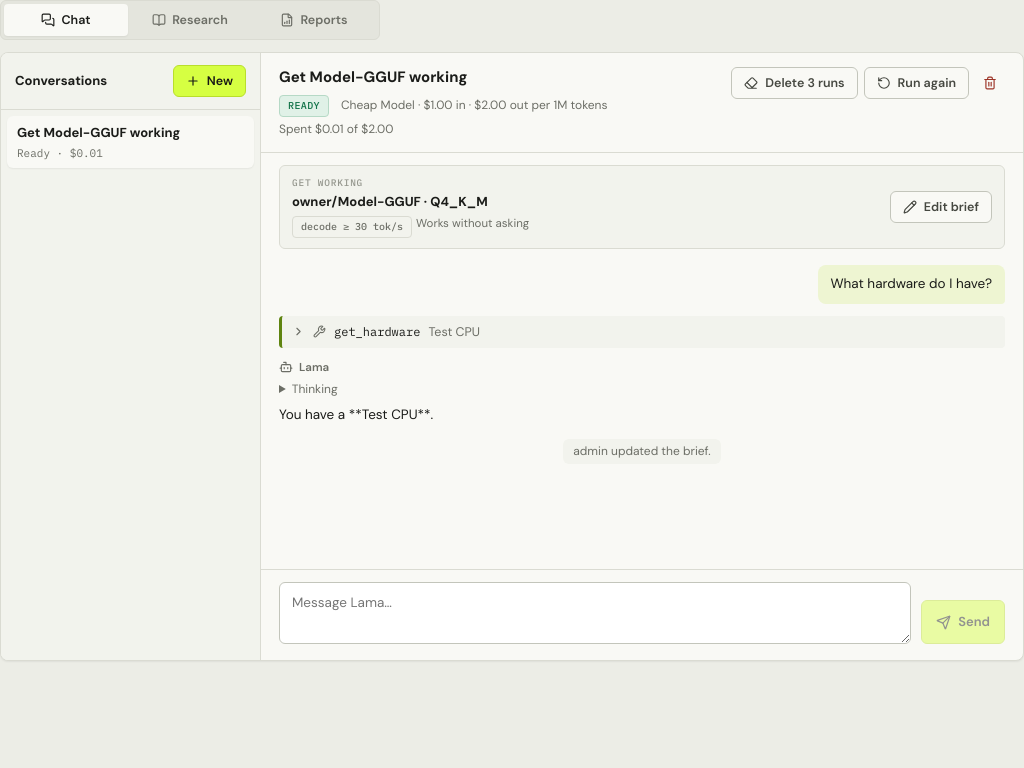
Test case: AssistantPanel › deletes the benchmark runs a conversation started
Click the button "Delete 3 runs" at point(794, 83), box [731,67,858,99]
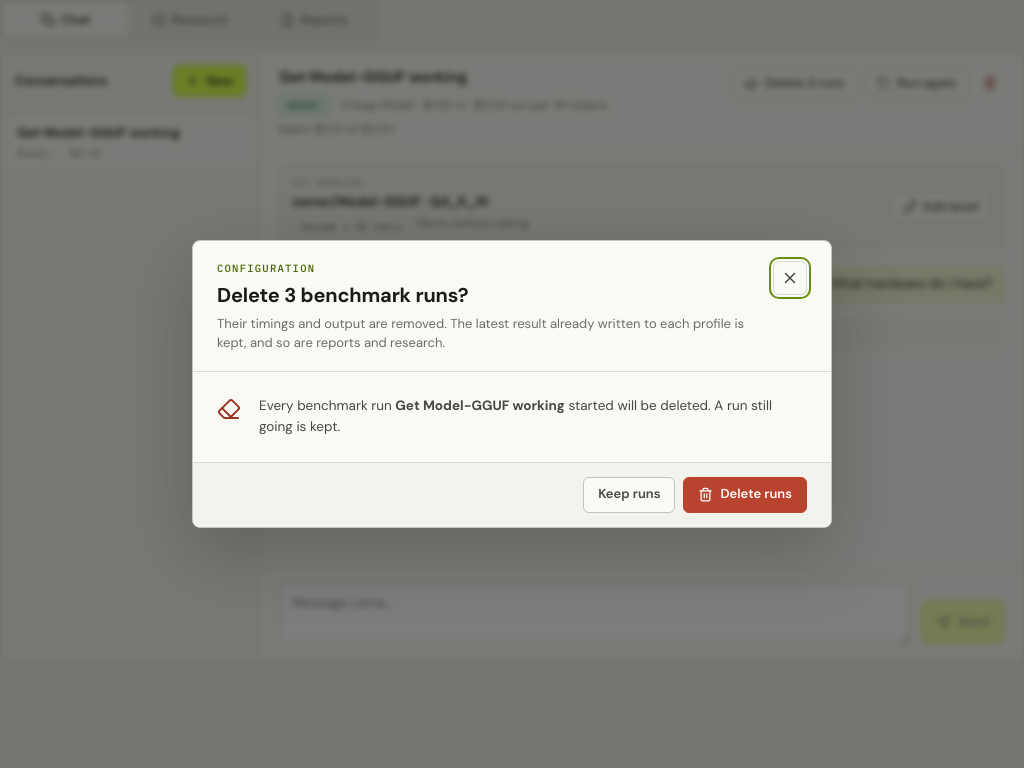
Click the button "Delete runs" at point(745, 495), box [684,477,807,513]
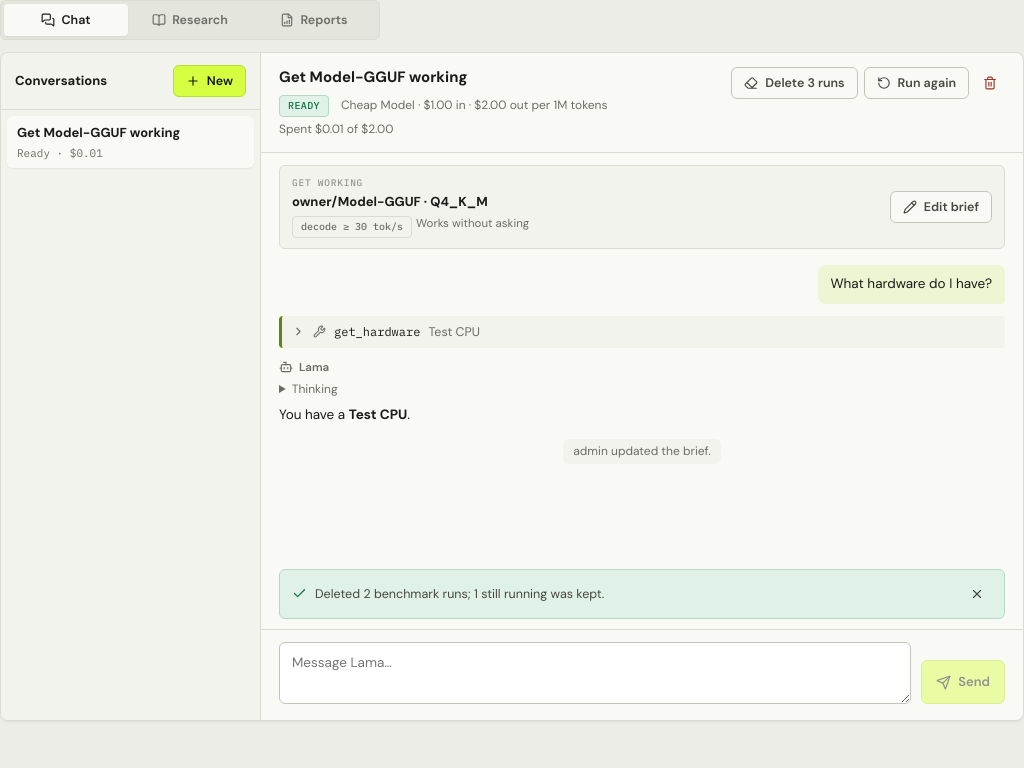
Check: the message reads "Deleted 2 benchmark runs; 1 still running was kept.", box [279,569,1005,619]
Click the button named "Dismiss" at point(977, 594), box [962,579,992,609]
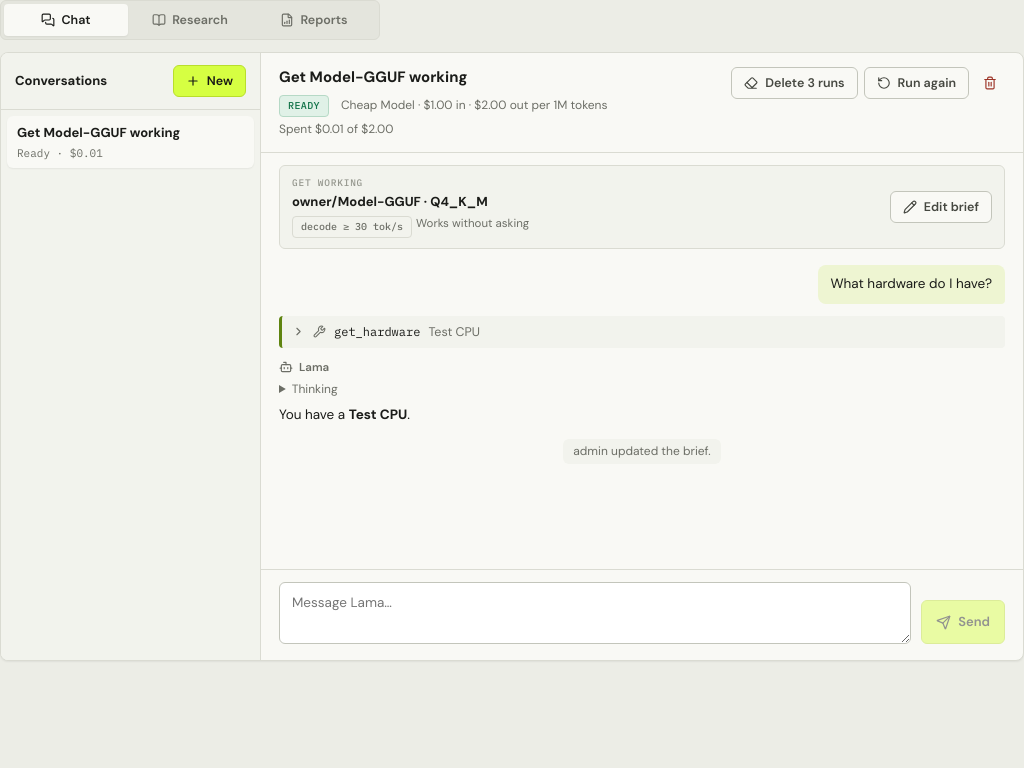
Check: the text "Deleted 2 benchmark runs" is gone
